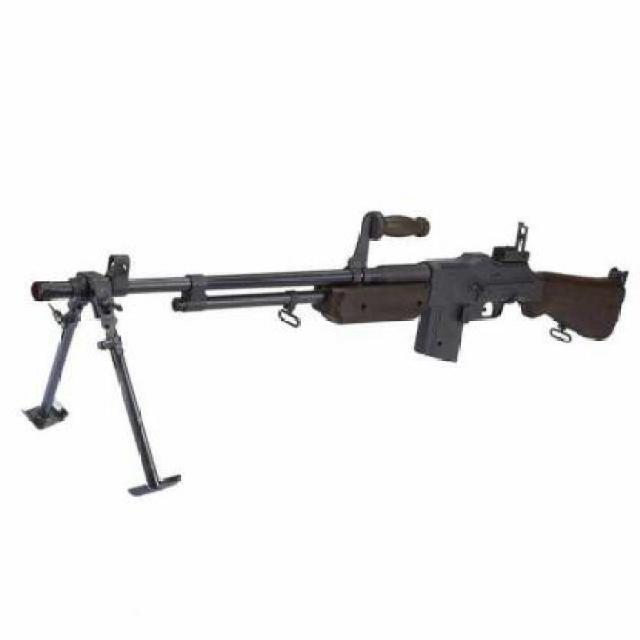weapon: (23, 209, 631, 499)
